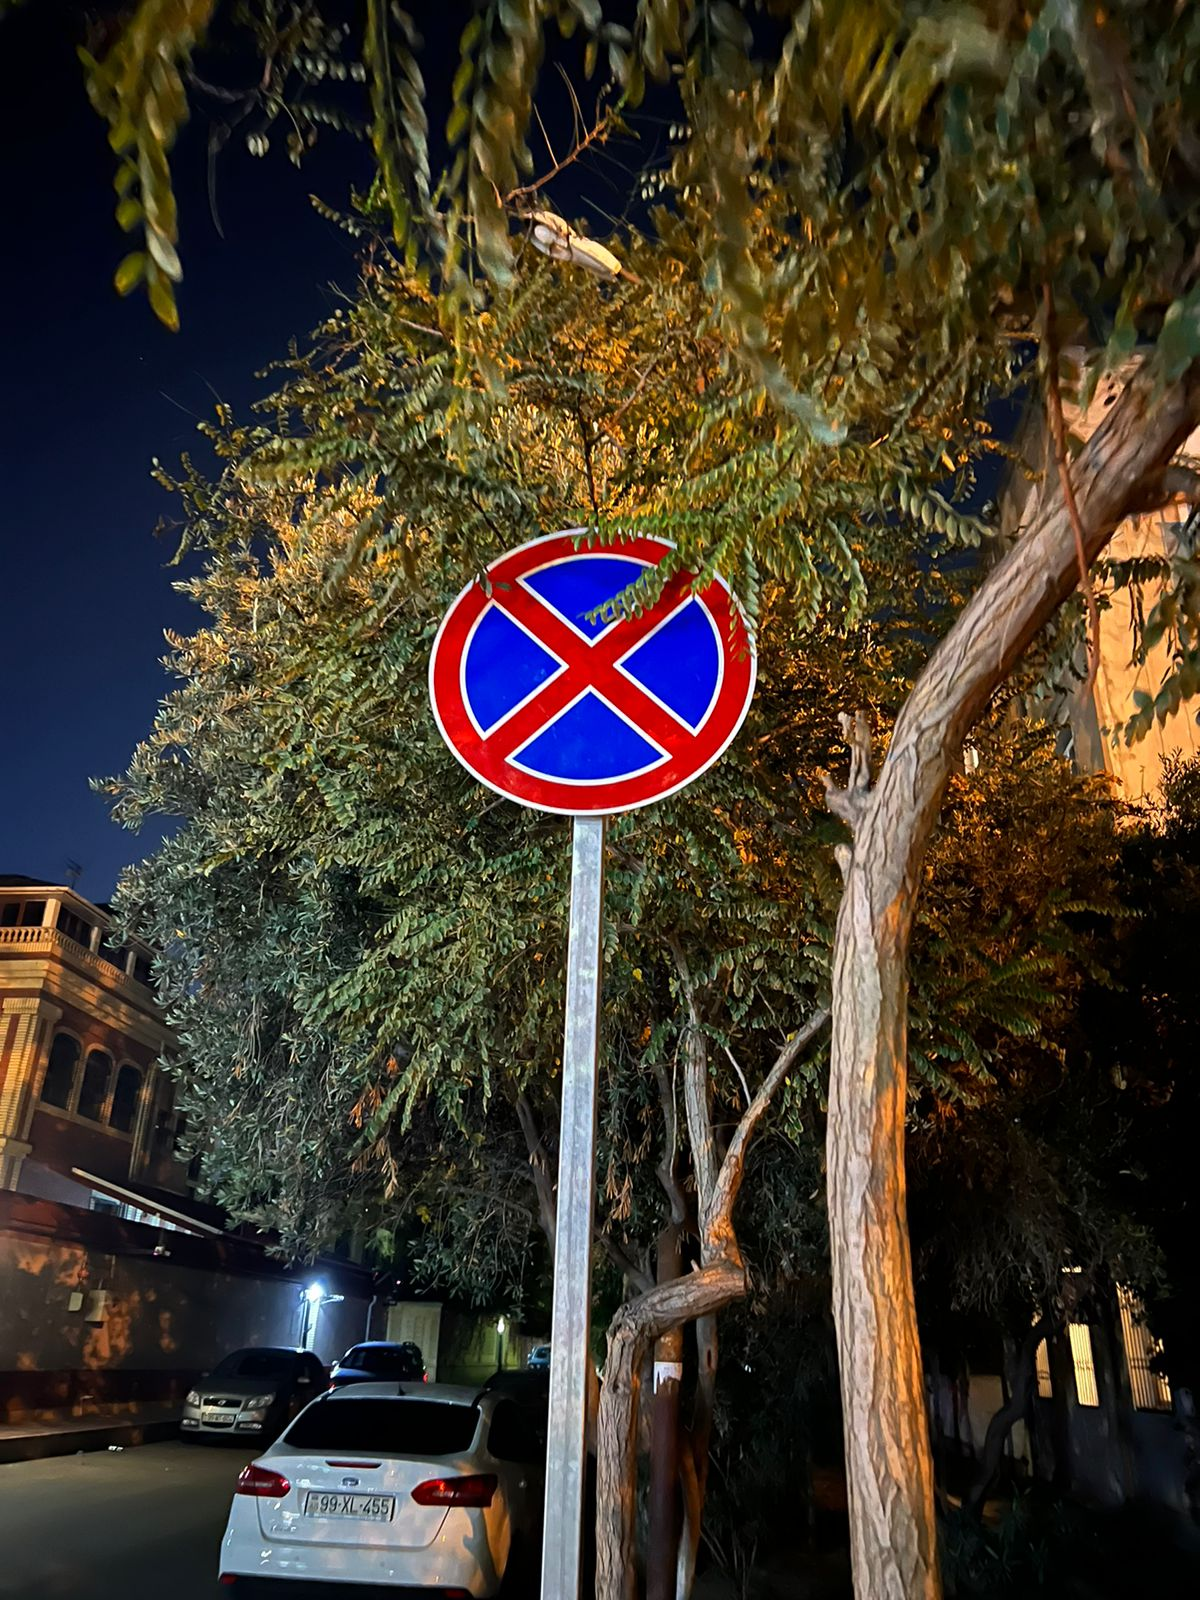No Parking: (429, 527, 756, 818)
